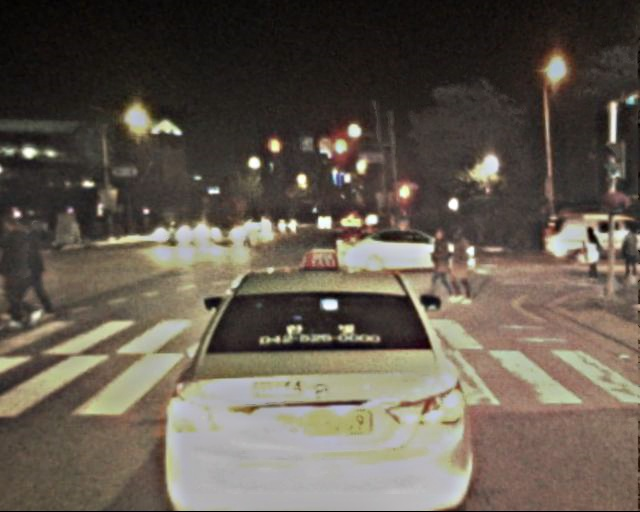person: (7, 213, 51, 321), (428, 229, 458, 303), (448, 229, 478, 303), (579, 228, 603, 287), (617, 227, 639, 285)
